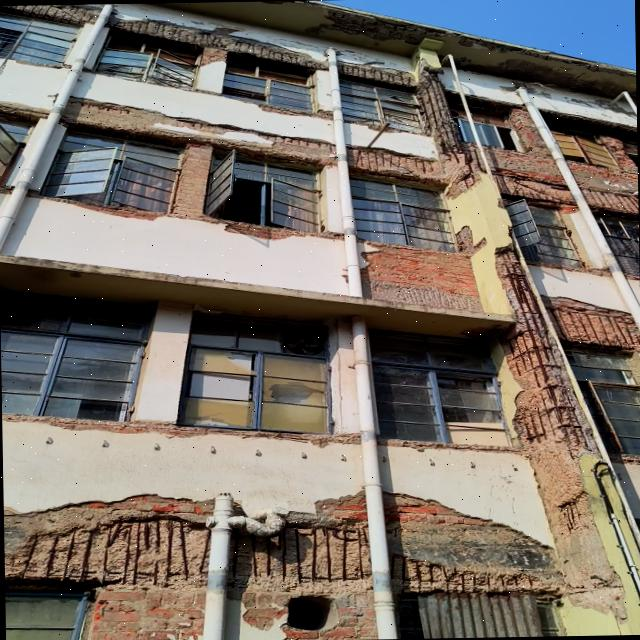Broken window pane: (178, 343, 338, 437)
Incomplete Plaster Work: (462, 59, 635, 97)
Spalling: (495, 243, 640, 555), (302, 0, 599, 69), (60, 98, 335, 170), (3, 505, 209, 587), (104, 13, 326, 71), (387, 521, 560, 594), (229, 520, 369, 594), (416, 63, 480, 199), (415, 58, 463, 159), (348, 145, 448, 189), (494, 168, 575, 207), (338, 60, 414, 92), (0, 4, 101, 26), (582, 187, 638, 219), (0, 100, 45, 122), (454, 225, 485, 255)
exposed brickwork: (78, 144, 337, 239), (2, 415, 355, 447), (361, 244, 483, 311), (90, 583, 212, 640), (551, 127, 637, 193), (493, 109, 564, 185), (278, 589, 381, 640), (384, 494, 489, 525), (226, 589, 289, 631), (115, 495, 186, 512), (257, 104, 331, 120), (317, 497, 364, 521), (388, 441, 444, 449)
